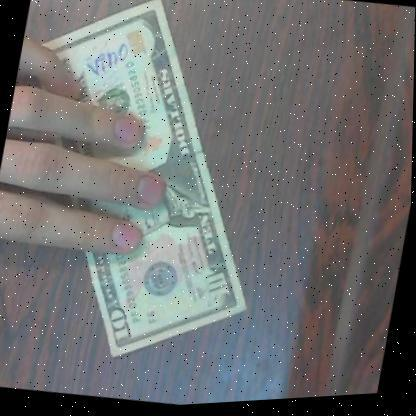ten-front: (0, 0, 300, 388)
